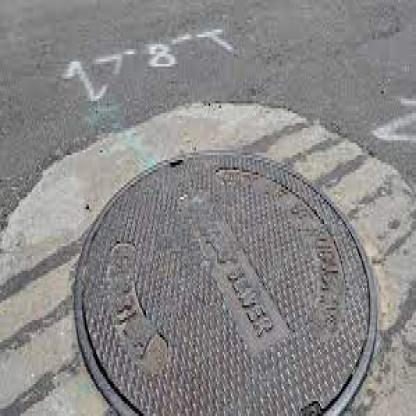closed manhole-not overflowing-: (72, 143, 380, 416)
